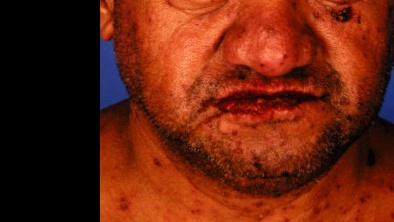SJS-TEN: (199, 75, 333, 126), (324, 0, 366, 32)
